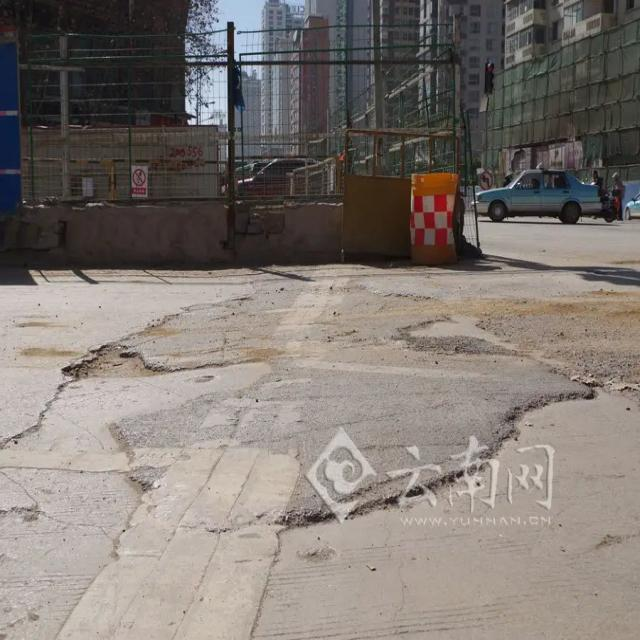Pothole: (397, 316, 520, 357), (64, 341, 174, 382)
